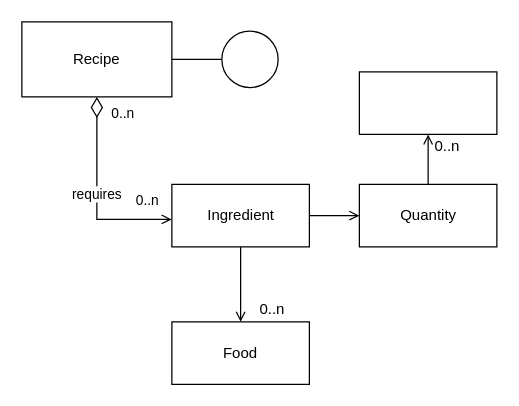
This 519x406 diagram has some shape labels left out. Each missing label, with the centre of its shape:
Text: pixel 249 59
Unit: pixel 427 102
